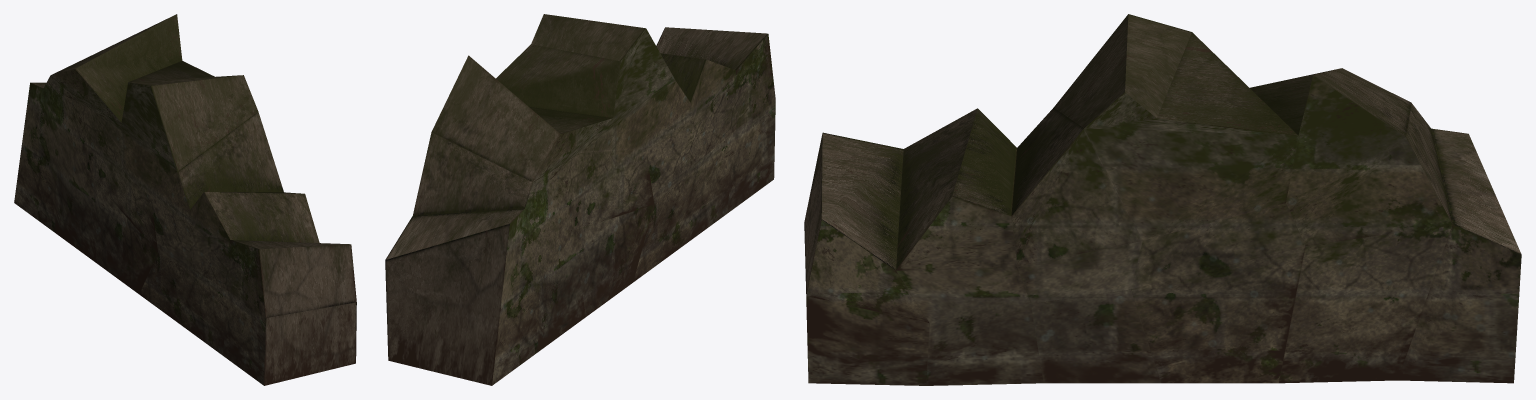
The model's file is rozbita -zed2-textured.fbx.
3 renders of one model, left to right at view 1: azimuth 30°, elevation 25°; view 2: azimuth 150°, elevation 25°; view 3: azimuth 270°, elevation 25°, orthographic. The views are drawn at different scales.
Visible parts, largest first — view 1: Cube.001; view 2: Cube.001; view 3: Cube.001.
Part boxes in pixels (bbox=[...]): Cube.001: bbox=[14, 14, 356, 385]; Cube.001: bbox=[385, 14, 775, 385]; Cube.001: bbox=[804, 14, 1521, 385].
Size of the model in its own units: 133 by 305 by 638.
2 materials, 2 textured.
